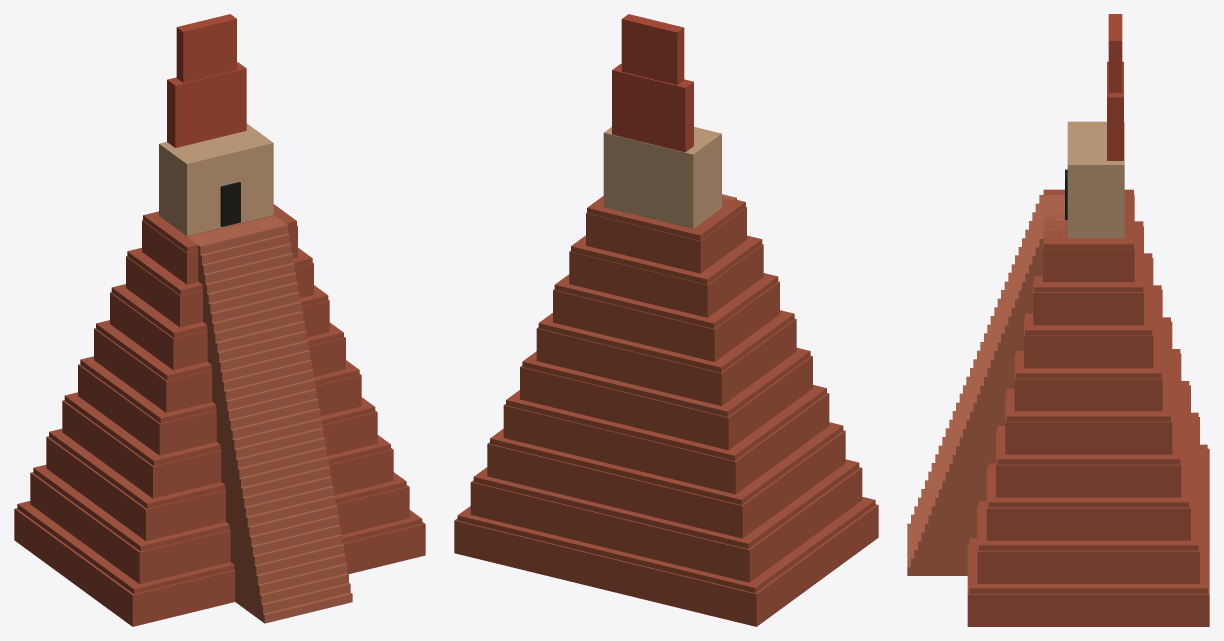
Rendered from meso-tikal-t3.glb.
The picture shows the model from 3 angles, left to right: view 1: azimuth 30°, elevation 25°; view 2: azimuth 150°, elevation 25°; view 3: azimuth 270°, elevation 25°; orthographic projection. The views are drawn at different scales.
Visible parts, largest first — view 1: meso-body, meso-stair, meso-shrine, meso-comb, meso-door; view 2: meso-body, meso-shrine, meso-comb; view 3: meso-body, meso-stair, meso-shrine, meso-comb.
Boxes of the visible parts, left/top/right/bottom form: meso-body: left=14, top=204, right=425, bottom=626; meso-stair: left=187, top=215, right=352, bottom=623; meso-shrine: left=159, top=123, right=273, bottom=235; meso-comb: left=167, top=14, right=246, bottom=147; meso-door: left=220, top=182, right=240, bottom=226; meso-body: left=454, top=196, right=878, bottom=626; meso-shrine: left=603, top=127, right=721, bottom=228; meso-comb: left=612, top=14, right=693, bottom=152; meso-body: left=967, top=189, right=1209, bottom=626; meso-stair: left=907, top=195, right=1065, bottom=575; meso-shrine: left=1067, top=121, right=1124, bottom=238; meso-comb: left=1107, top=14, right=1123, bottom=160.
Size of the model in its own units: 32.71 by 55 by 28.61.
